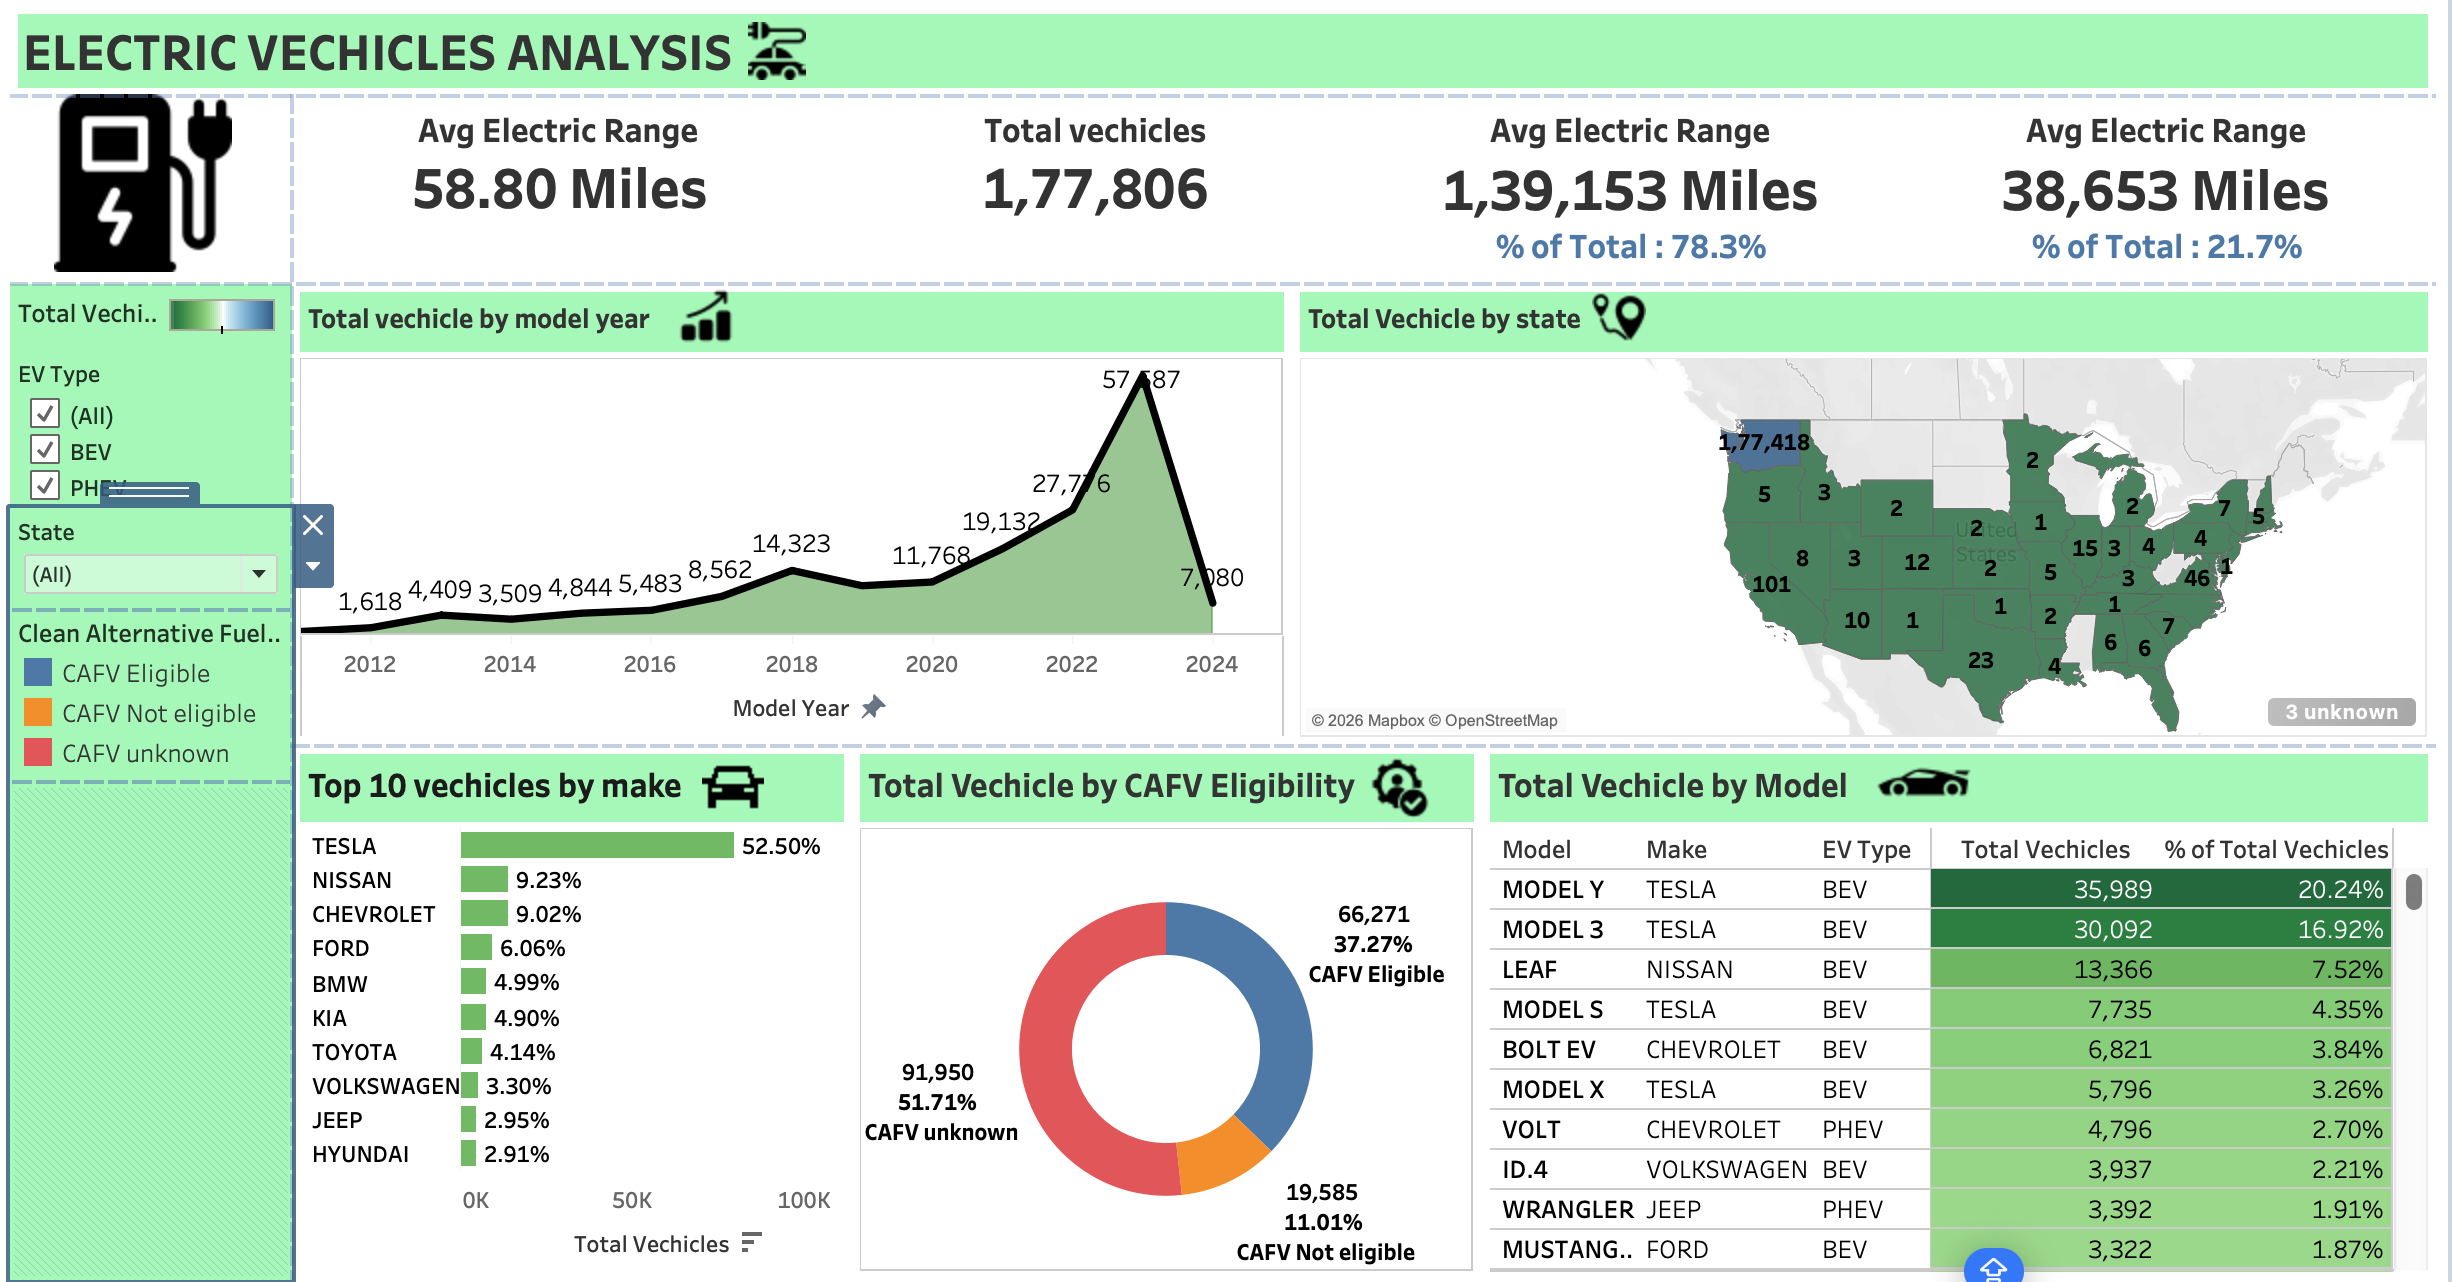

The dashboard page shown, as its layout file describes it:
{"tool":"tableau","page":{"name":"Dashboard 1","canvas":[1000,1000],"units":"permille","ordinal":0},"visuals":[{"type":"title","box":[6.5,10.4,987,69.1]},{"type":"image","param":"Image/electric-car.png","box":[292.9,15.6,76.5,57.3]},{"type":"image","param":"Image/electric-car 1.png","box":[299.5,24.5,38.6,44.4]},{"type":"worksheet","title":"Avg Electric Range","mark":"Automatic","box":[121.2,79.4,218.1,144.5]},{"type":"worksheet","title":"Total vechicles","mark":"Automatic","box":[339.3,79.4,218.1,144.5]},{"type":"worksheet","title":"Total BEV Vechicles","mark":"Automatic","box":[557.4,79.4,218.1,144.5]},{"type":"worksheet","title":"Total PHEV Vechicles ","mark":"Automatic","box":[775.4,79.4,218.1,144.5]},{"type":"image","param":"Image/electric-car (2).png","box":[6.5,79.5,114.6,144.5]},{"type":"image","param":"Image/charging-station.png","box":[0.8,79.6,120,136.3]},{"type":"image","param":"Image/growth.png","box":[274.2,207,39.9,39.1]},{"type":"image","param":"Image/black-placeholder-for-maps.png","box":[654.2,208.3,24.4,33.9]},{"type":"legend","title":"Total Vechicle by state","param":"[federated.0uh6suh10fqcu0132w97b07b8ugr].[usr:Calculation_1496461729421459456:qk","box":[6.5,224.1,114.6,28.7]},{"type":"worksheet","title":"Total vechicle by model year","mark":"Area","rows":["Calculation_1496461729421459456","Calculation_1496461729421459456"],"cols":["Model Year"],"box":[121.1,224.1,406.8,355.1]},{"type":"worksheet","title":"Total Vechicle by state","mark":"Multipolygon","box":[528,224.1,465.5,355.1]},{"type":"image","param":"Image/growth 1.png","box":[273.8,228.2,32.2,42.9]},{"type":"image","param":"Image/location.png","box":[647.3,229.7,27.4,41.4]},{"type":"filter","title":"Top 10 vechicles by make","param":"[federated.0uh6suh10fqcu0132w97b07b8ugr].[none:Electric Vehicle Type:nk]","box":[6.5,274.6,114.6,121.3]},{"type":"filter","title":"Top 10 vechicles by make","param":"[federated.0uh6suh10fqcu0132w97b07b8ugr].[none:State:nk]","box":[6.5,395.9,114.6,31.2]},{"type":"legend","title":"Sheet 8","param":"[federated.0uh6suh10fqcu0132w97b07b8ugr].[none:Clean Alternative Fuel Vehicle (C","box":[6.5,427.2,114.6,28.7]},{"type":"image","param":"Image/car (1).png","box":[765.7,568.1,38.6,78.1]},{"type":"image","param":"Image/sedan-car-model.png","box":[744.5,576.8,87.9,56]},{"type":"worksheet","title":"Top 10 vechicles by make","mark":"Automatic","rows":["Make"],"cols":["Calculation_1496461729421459456"],"box":[121.1,579.1,227.8,410.4]},{"type":"worksheet","title":"Sheet 8","mark":"Pie","rows":["Calculation_1508142941010178049","Calculation_1508142941010178049"],"box":[348.9,579.1,256.4,410.4]},{"type":"worksheet","title":"Sheet 9","mark":"Square","rows":["Model","Make","Electric Vehicle Type"],"box":[605.4,579.1,388.1,410.4]},{"type":"image","param":"Image/car 1.png","box":[283.4,586.5,34.6,47.5]},{"type":"image","param":"Image/car.png","box":[278.3,587.2,58.6,39.1]},{"type":"image","param":"Image/competency.png","box":[558.2,587.2,35.8,39.1]},{"type":"image","param":"Image/competency 1.png","box":[558,588.1,27.4,45.9]}]}

Visuals, with their boxes on the dashboard's canvas, which has no fixed pixel size, in thousandths of its width and height (x1, y1, x2, y2). These are canvas units, not pixel positions in the 2452x1282 screenshot, which may show the page scaled, cropped or inside an application window:
title: rect(6, 10, 994, 80)
image: rect(293, 16, 369, 73)
image: rect(300, 24, 338, 69)
"Avg Electric Range" worksheet: rect(121, 79, 339, 224)
"Total vechicles" worksheet: rect(339, 79, 557, 224)
"Total BEV Vechicles" worksheet: rect(557, 79, 776, 224)
"Total PHEV Vechicles " worksheet: rect(775, 79, 994, 224)
image: rect(6, 80, 121, 224)
image: rect(1, 80, 121, 216)
image: rect(274, 207, 314, 246)
image: rect(654, 208, 679, 242)
"Total Vechicle by state" legend: rect(6, 224, 121, 253)
"Total vechicle by model year" worksheet (Area marks): rect(121, 224, 528, 579)
"Total Vechicle by state" worksheet (Multipolygon marks): rect(528, 224, 994, 579)
image: rect(274, 228, 306, 271)
image: rect(647, 230, 675, 271)
"Top 10 vechicles by make" filter: rect(6, 275, 121, 396)
"Top 10 vechicles by make" filter: rect(6, 396, 121, 427)
"Sheet 8" legend: rect(6, 427, 121, 456)
image: rect(766, 568, 804, 646)
image: rect(744, 577, 832, 633)
"Top 10 vechicles by make" worksheet: rect(121, 579, 349, 990)
"Sheet 8" worksheet (Pie marks): rect(349, 579, 605, 990)
"Sheet 9" worksheet (Square marks): rect(605, 579, 994, 990)
image: rect(283, 586, 318, 634)
image: rect(278, 587, 337, 626)
image: rect(558, 587, 594, 626)
image: rect(558, 588, 585, 634)
